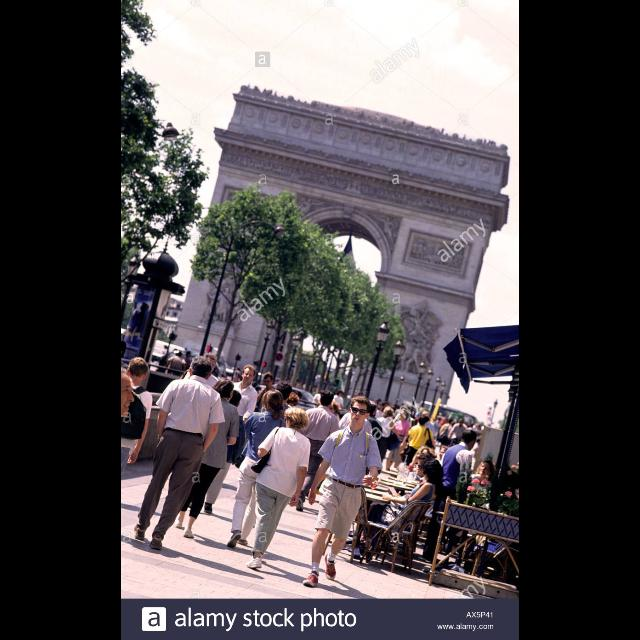head: (126, 356, 150, 382), (189, 356, 213, 382), (284, 407, 310, 431), (350, 396, 372, 424), (212, 378, 235, 402), (423, 460, 442, 482), (417, 454, 435, 476), (462, 430, 480, 452), (419, 447, 438, 463), (242, 365, 258, 383), (276, 383, 292, 401), (228, 389, 242, 408), (202, 355, 216, 373), (480, 459, 494, 475), (321, 392, 335, 406), (288, 393, 300, 407), (264, 374, 274, 388), (368, 404, 378, 416), (384, 407, 394, 418), (400, 411, 410, 421), (419, 418, 427, 427), (460, 418, 466, 426), (176, 351, 182, 357), (186, 352, 192, 358)
person: (132, 354, 228, 550), (302, 395, 386, 589), (166, 375, 240, 539), (247, 406, 313, 570), (177, 352, 226, 522), (364, 460, 446, 558), (184, 388, 246, 516), (421, 429, 479, 565), (366, 452, 438, 546), (374, 448, 444, 540), (120, 356, 154, 540), (294, 392, 344, 514), (460, 458, 498, 574), (268, 381, 298, 505), (225, 362, 259, 468), (278, 393, 306, 499), (358, 401, 389, 483), (254, 372, 284, 453), (372, 407, 402, 475), (404, 414, 438, 472), (384, 410, 412, 474), (162, 350, 190, 398), (448, 418, 472, 458), (182, 350, 194, 384)
